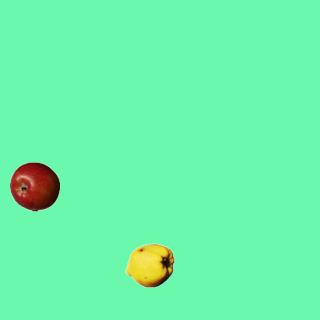Apple Braeburn: (9, 161, 59, 211)
Quince: (124, 240, 174, 290)
